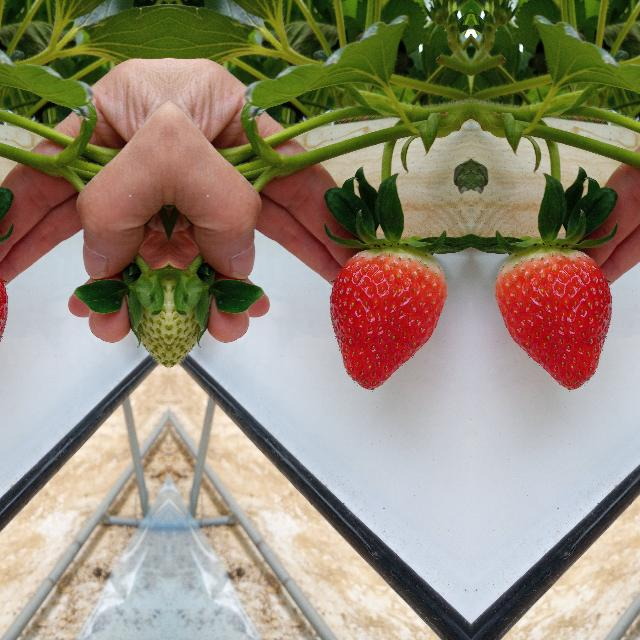Health_100: (328, 248, 448, 392), (493, 248, 612, 392)
Health_25: (168, 263, 206, 383), (130, 263, 168, 383)
